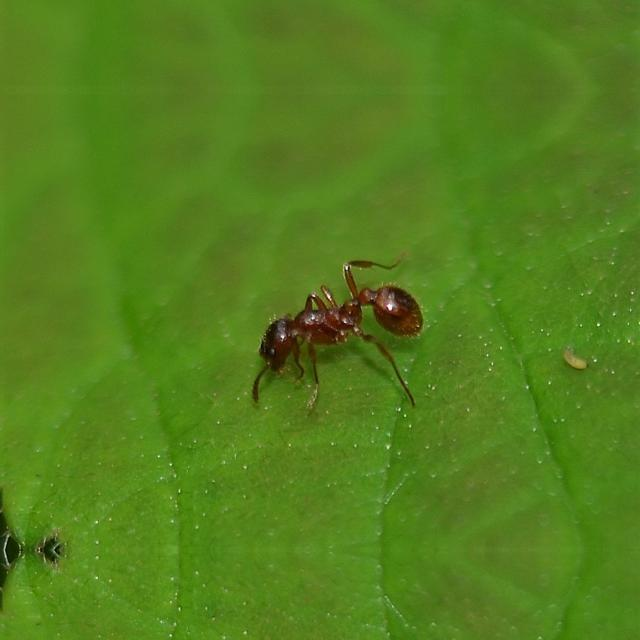Myrmica: (236, 242, 428, 394)
